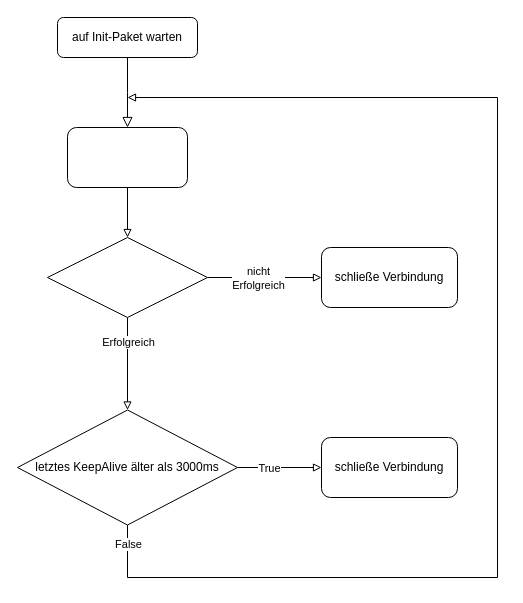
Image size: 523x603. Some labels were removed from this diagram. Here are the shapes that lost their labels. From the top down, the centre of each, then its label:
At (x=127, y=157): "_send_keep_alive()".
At (x=127, y=277): "_interpret_receive()".
